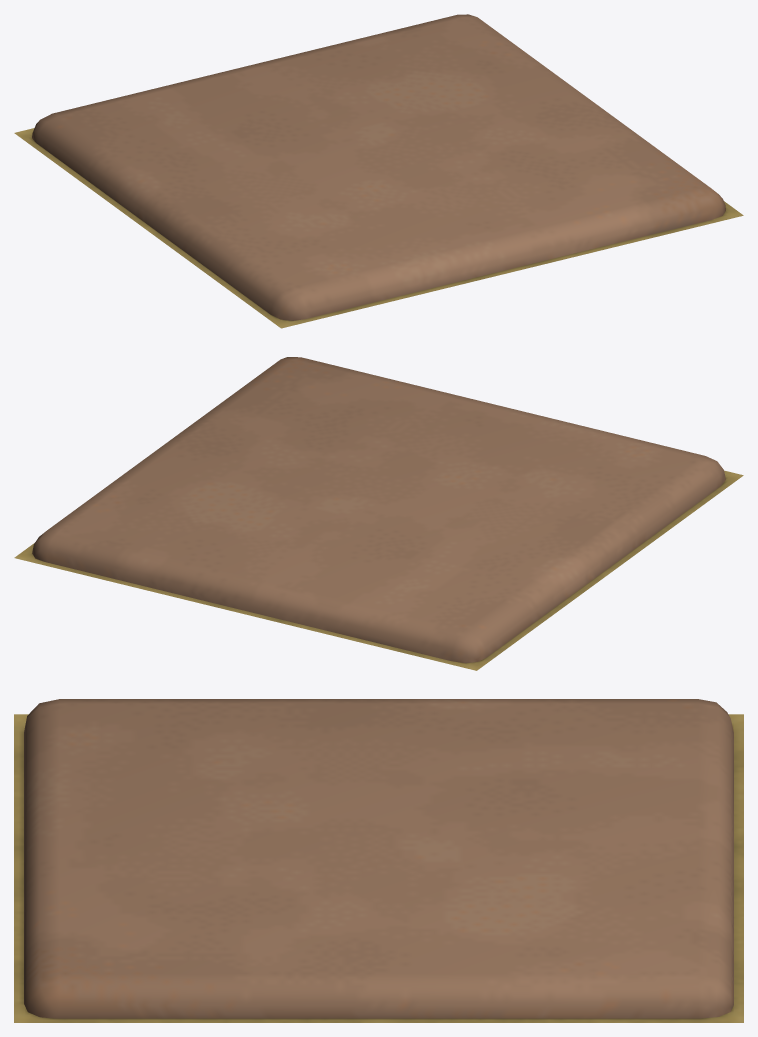
Rendered from N-Sol_Dalle1.FBX.
3 renders of one model, top to bottom at view 1: azimuth 30°, elevation 25°; view 2: azimuth 150°, elevation 25°; view 3: azimuth 270°, elevation 25°, orthographic. The views are drawn at different scales.
Visible parts, largest first — view 1: Sol_Dalle1; view 2: Sol_Dalle1; view 3: Sol_Dalle1.
Part boxes in pixels (x1,y1,x2,y2): Sol_Dalle1: (14,14,743,328); Sol_Dalle1: (14,357,743,670); Sol_Dalle1: (14,699,743,1022).
Bounding box in the file's own units: 2 × 0.1 × 2.
